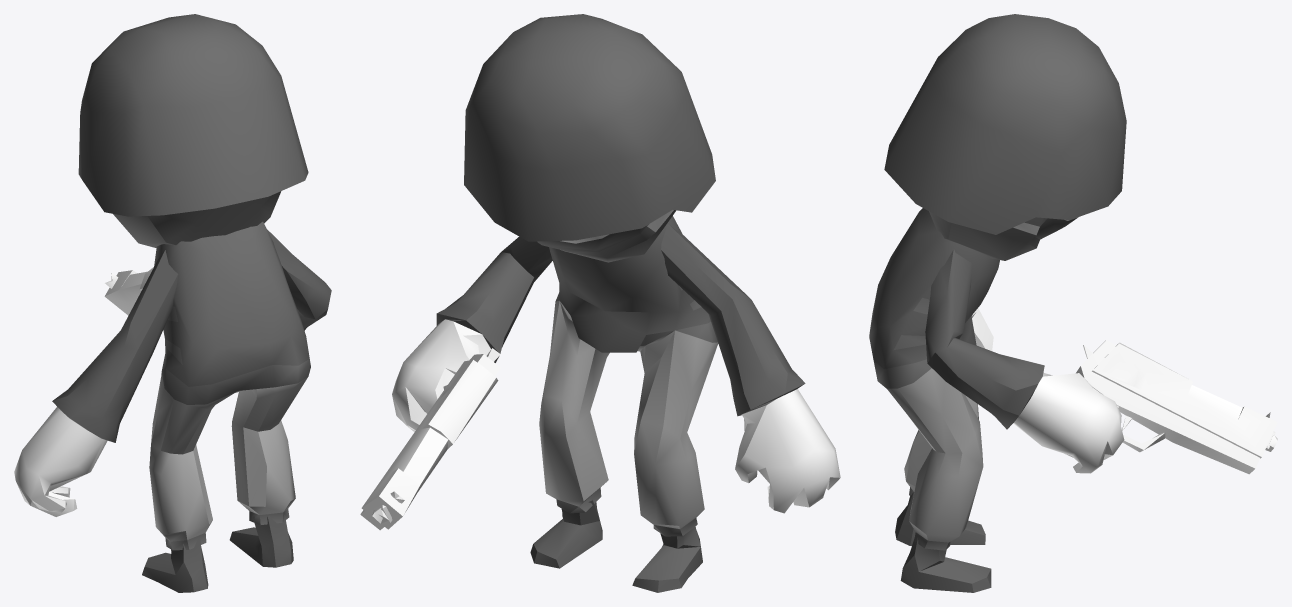
File: olive_sapper.glb
3 renders of one model, left to right at view 1: azimuth 30°, elevation 25°; view 2: azimuth 150°, elevation 25°; view 3: azimuth 270°, elevation 25°, orthographic. The views are drawn at different scales.
Visible parts, largest first — view 1: Body; view 2: Body; view 3: Body.
Boxes of the visible parts, x1,y1,x2,y2 form: Body: (14, 14, 331, 592); Body: (360, 14, 840, 592); Body: (869, 14, 1277, 592).
Bounding box in the file's own units: 1.22 × 1.8 × 1.24.
Materials: 2 (1 with a texture image).
